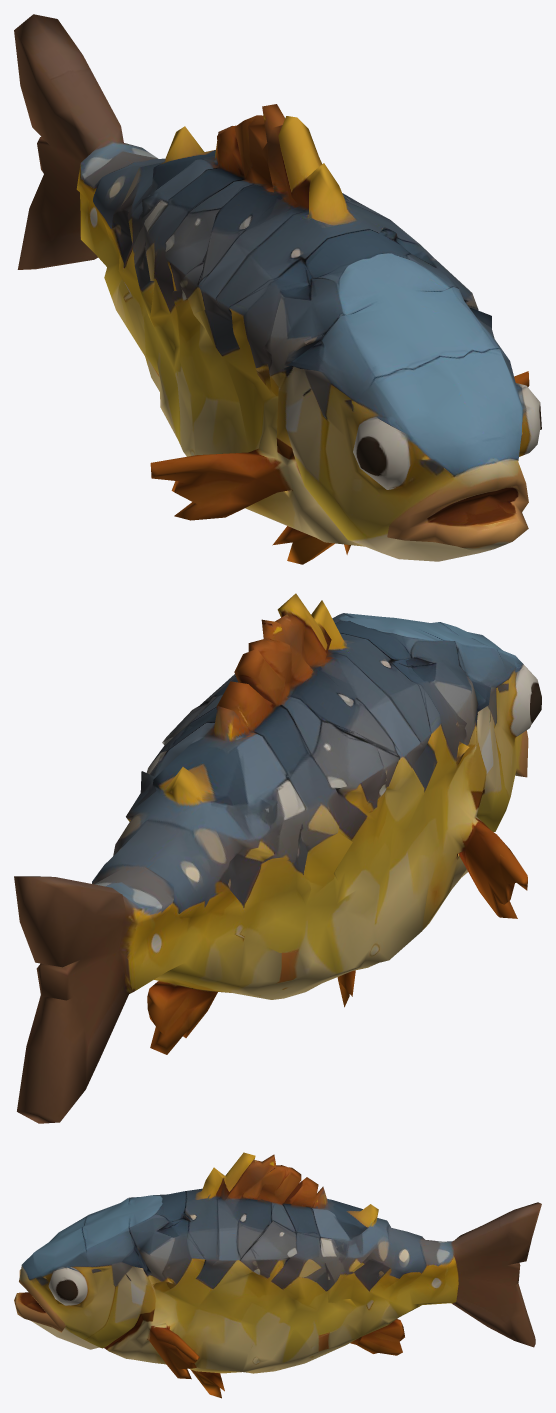
Rendered from item_fish.glb.
The picture shows the model from 3 angles, top to bottom: view 1: azimuth 30°, elevation 25°; view 2: azimuth 150°, elevation 25°; view 3: azimuth 270°, elevation 25°; orthographic projection. The views are drawn at different scales.
Visible parts, largest first — view 1: tripo_node_24bf9a78-bfa0-4c38-91d5-9ddab78bf29e; view 2: tripo_node_24bf9a78-bfa0-4c38-91d5-9ddab78bf29e; view 3: tripo_node_24bf9a78-bfa0-4c38-91d5-9ddab78bf29e.
Boxes of the visible parts, left/top/right/bottom form: tripo_node_24bf9a78-bfa0-4c38-91d5-9ddab78bf29e: left=14, top=14, right=541, bottom=564; tripo_node_24bf9a78-bfa0-4c38-91d5-9ddab78bf29e: left=14, top=593, right=541, bottom=1123; tripo_node_24bf9a78-bfa0-4c38-91d5-9ddab78bf29e: left=14, top=1152, right=541, bottom=1398.
Size of the model in its own units: 0.4661 by 0.4973 by 1.
Materials: 1 (1 with a texture image).
